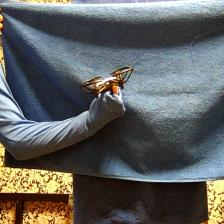drone: (82, 64, 134, 96)
